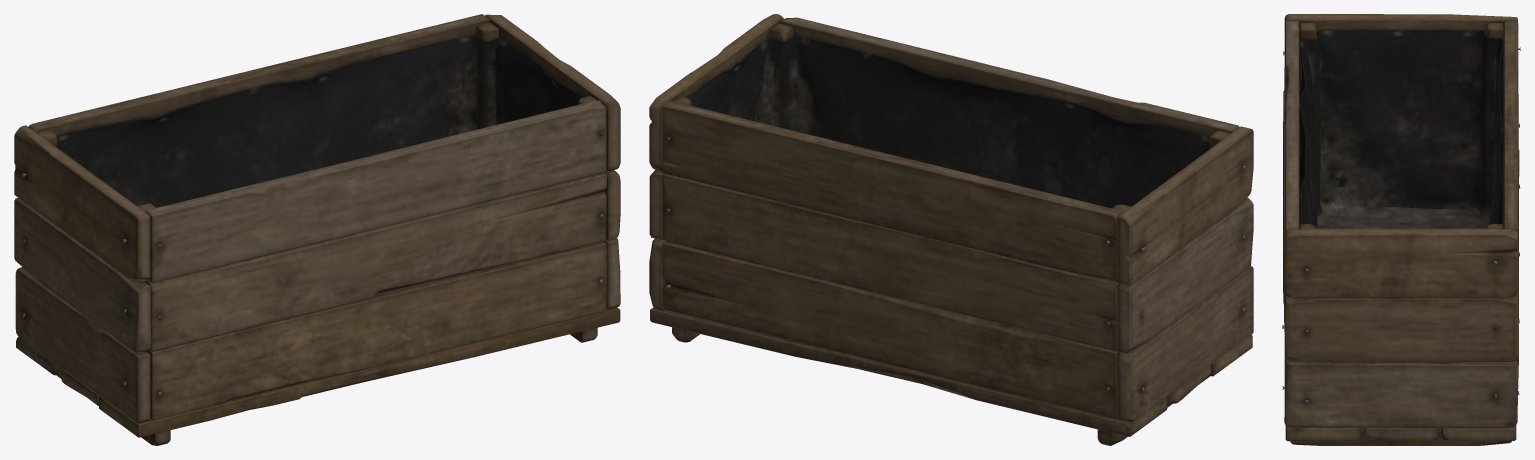
File: planter_box_01.glb
The picture shows the model from 3 angles, left to right: view 1: azimuth 30°, elevation 25°; view 2: azimuth 150°, elevation 25°; view 3: azimuth 270°, elevation 25°; orthographic projection. The views are drawn at different scales.
Visible parts, largest first — view 1: planter_box_01; view 2: planter_box_01; view 3: planter_box_01.
Part boxes in pixels (x1,y1,x2,y2): planter_box_01: [14, 14, 620, 445]; planter_box_01: [649, 14, 1253, 445]; planter_box_01: [1282, 14, 1520, 445].
Bounding box in the file's own units: 0.9126 × 0.425 × 0.4137.
Materials: 1 (1 with a texture image).
